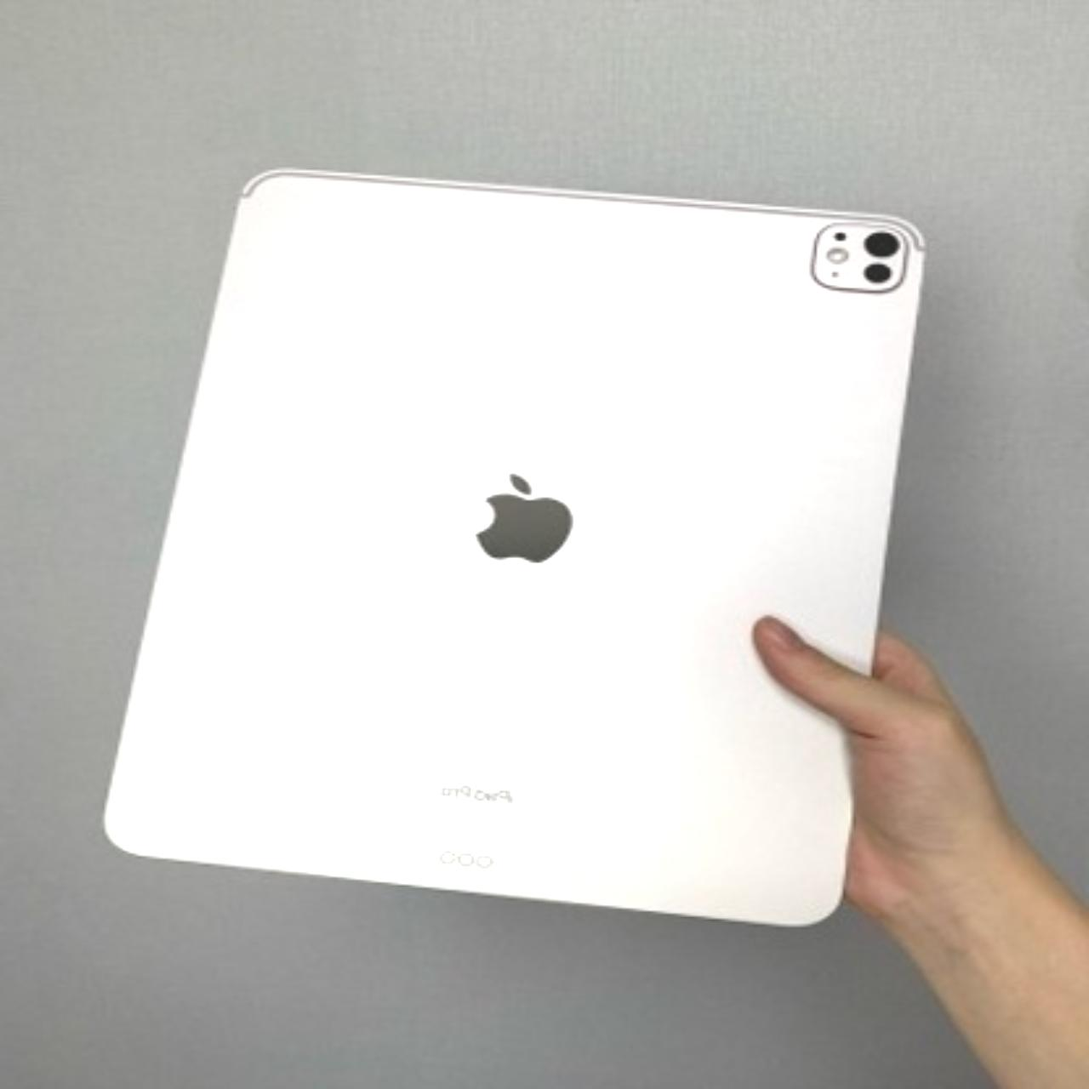Tablet_PC: (84, 155, 937, 948)
